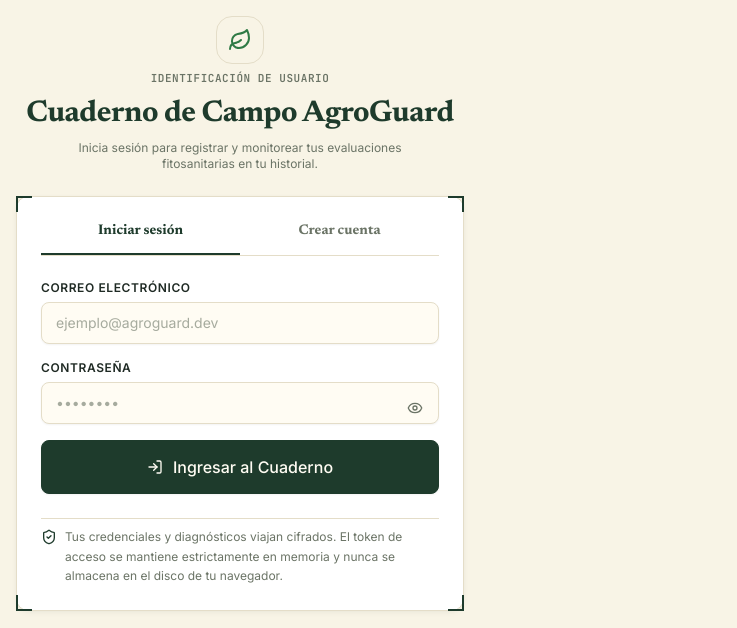
Scenario: Feature Auth — Sesión y Autenticación › Inicia sesión exitosamente, muestra toast de bienvenida y guarda el access token en memoria
Type "agricultor@agroguard.dev" into the field labelled "Correo Electrónico".
click(240, 323); type("agricultor@agroguard.dev")  # box top-left (41, 302), bottom-right (439, 344)
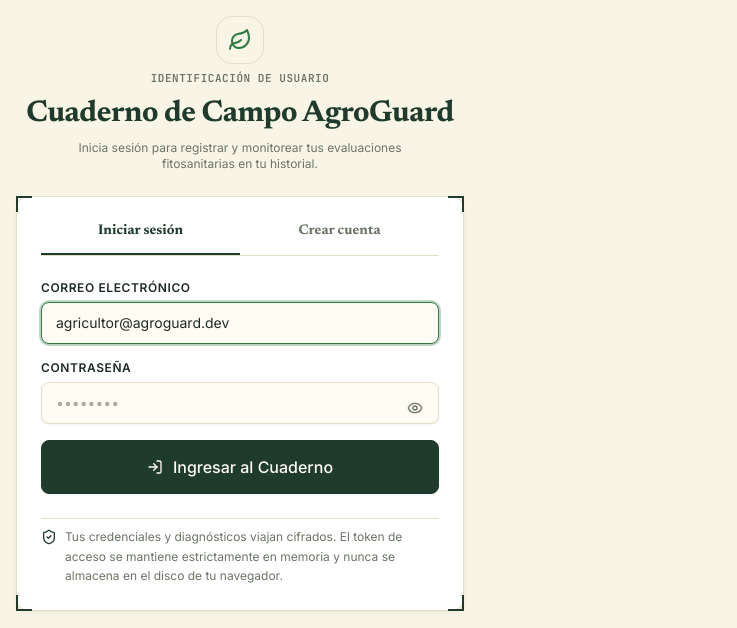
Type "secreto123" into the password field labelled "Contraseña".
click(240, 403); type("secreto123")  # box top-left (41, 382), bottom-right (439, 424)
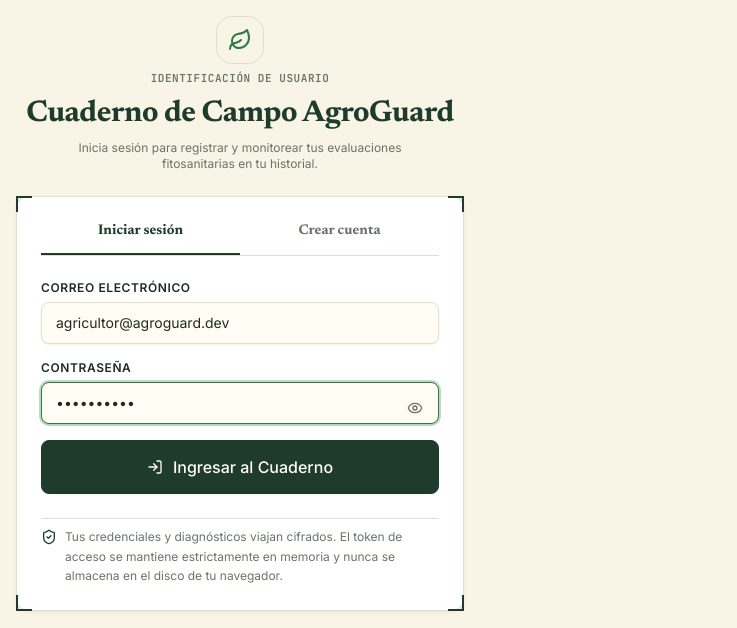
Click the button "Ingresar al Cuaderno".
click(240, 467)  # box top-left (41, 440), bottom-right (439, 494)
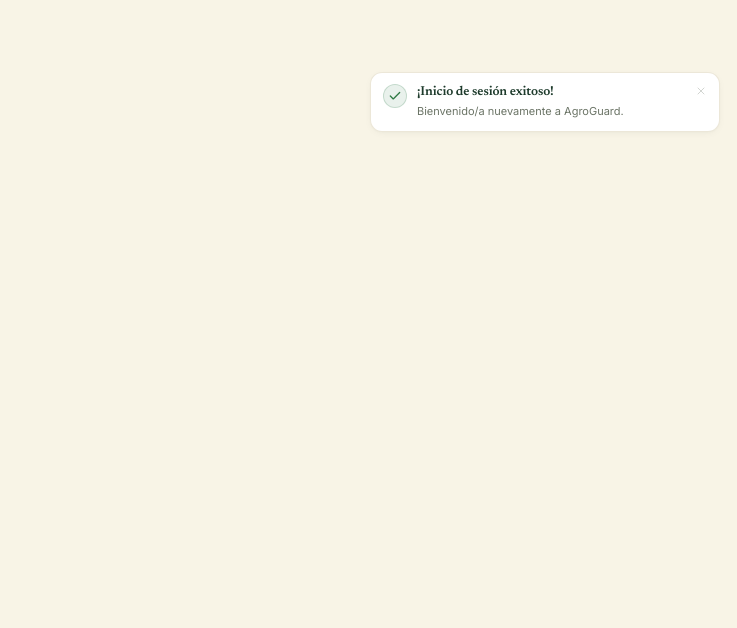
Result: the text "¡Inicio de sesión exitoso!" is shown at top-left (417, 85), bottom-right (554, 98)
